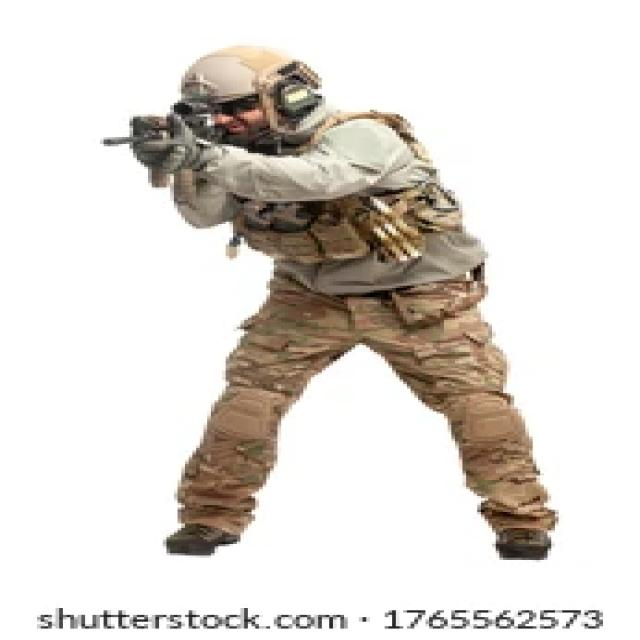soldier: (111, 41, 560, 563)
